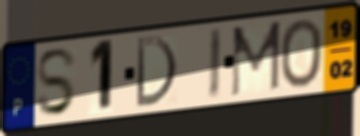1: (87, 37, 114, 116)
D: (134, 34, 180, 110)
I: (207, 26, 224, 103)
M: (228, 19, 283, 101)
O: (278, 16, 324, 90)
S: (34, 46, 79, 120)
